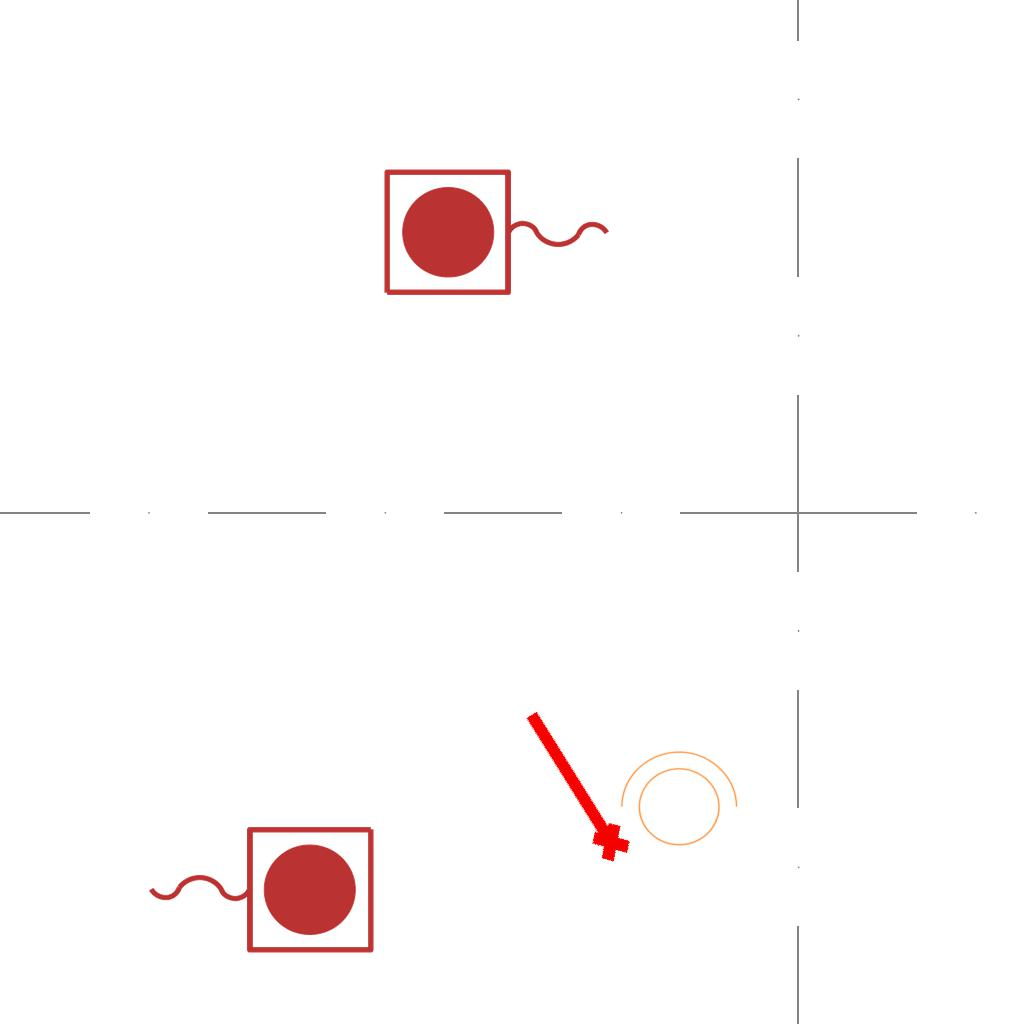ASR_Ansaugoeffnung: (506, 699, 640, 873)
Scheinwerfer_fuer_Alarmbeleuchtung: (610, 746, 742, 858)
Zugtaster: (138, 816, 382, 960), (376, 162, 620, 306)
